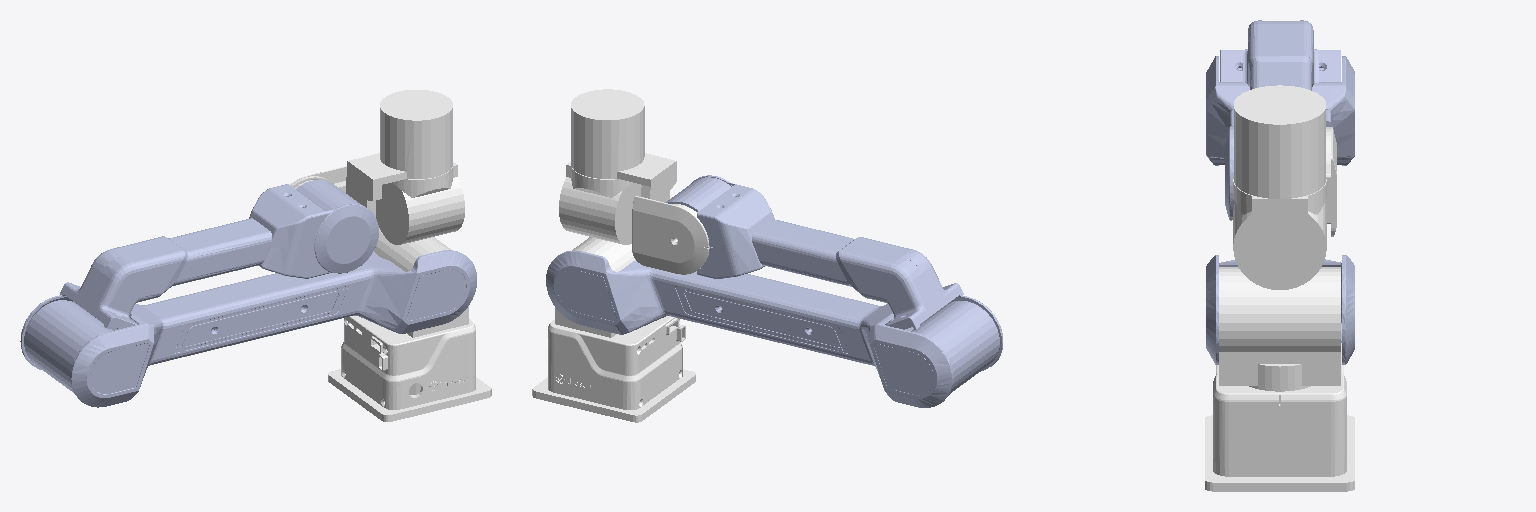
URDF robot description (S1_urdf):
<?xml version="1.0" encoding="utf-8"?>
<!-- This URDF was automatically created by SolidWorks to URDF Exporter! Originally created by Stephen Brawner (brawner@gmail.com) 
     Commit Version: 1.6.0-4-g7f85cfe  Build Version: 1.6.7995.38578
     For more information, please see http://wiki.ros.org/sw_urdf_exporter -->
<robot
  name="S1_urdf">
  <link
    name="base_link">
    <inertial>
      <origin
        xyz="-0.00380858444094159 -2.95623718748507E-06 -0.00812774108594989"
        rpy="0 0 0" />
      <mass
        value="0.20806063959613" />
      <inertia
        ixx="0.000111582714512014"
        ixy="-2.09920975933723E-08"
        ixz="-1.21102241506082E-07"
        iyy="0.000111825104100504"
        iyz="7.58291968234202E-09"
        izz="0.000141736244263584" />
    </inertial>
    <visual>
      <origin
        xyz="0 0 0"
        rpy="0 0 0" />
      <geometry>
        <mesh
          filename="package://S1_urdf/meshes/base_link.STL" />
      </geometry>
      <material
        name="">
        <color
          rgba="1 1 1 1" />
      </material>
    </visual>
    <collision>
      <origin
        xyz="0 0 0"
        rpy="0 0 0" />
      <geometry>
        <mesh
          filename="package://S1_urdf/meshes/base_link.STL" />
      </geometry>
    </collision>
  </link>
  <link
    name="1_Link">
    <inertial>
      <origin
        xyz="-7.80625564189563E-18 -5.00000000002408E-06 0.0590653989286232"
        rpy="0 0 0" />
      <mass
        value="0.240435362198768" />
      <inertia
        ixx="0.00018630832355269"
        ixy="1.64953324173944E-20"
        ixz="-3.36777610311687E-21"
        iyy="0.000128091509815163"
        iyz="1.45060421196015E-21"
        izz="0.000164031471753809" />
    </inertial>
    <visual>
      <origin
        xyz="0 0 0"
        rpy="0 0 0" />
      <geometry>
        <mesh
          filename="package://S1_urdf/meshes/1_Link.STL" />
      </geometry>
      <material
        name="">
        <color
          rgba="1 1 1 1" />
      </material>
    </visual>
    <collision>
      <origin
        xyz="0 0 0"
        rpy="0 0 0" />
      <geometry>
        <mesh
          filename="package://S1_urdf/meshes/1_Link.STL" />
      </geometry>
    </collision>
  </link>
  <joint
    name="1joint"
    type="revolute">
    <origin
      xyz="0 0 0"
      rpy="0 0 0" />
    <parent
      link="base_link" />
    <child
      link="1_Link" />
    <axis
      xyz="0 0 1" />
    <limit
      lower="-2.967"
      upper="2.967"
      effort="9"
      velocity="3" />
  </joint>
  <link
    name="2_Link">
    <inertial>
      <origin
        xyz="-0.251879222304569 0.000517956528807904 -7.29157146039383E-05"
        rpy="0 0 0" />
      <mass
        value="0.278959835711776" />
      <inertia
        ixx="0.000163800465912938"
        ixy="2.62737202022501E-07"
        ixz="1.39606807736436E-05"
        iyy="0.000968577582996889"
        iyz="7.55245046340043E-08"
        izz="0.00100988914340768" />
    </inertial>
    <visual>
      <origin
        xyz="0 0 0"
        rpy="0 0 0" />
      <geometry>
        <mesh
          filename="package://S1_urdf/meshes/2_Link.STL" />
      </geometry>
      <material
        name="">
        <color
          rgba="0.792156862745098 0.819607843137255 0.933333333333333 1" />
      </material>
    </visual>
    <collision>
      <origin
        xyz="0 0 0"
        rpy="0 0 0" />
      <geometry>
        <mesh
          filename="package://S1_urdf/meshes/2_Link.STL" />
      </geometry>
    </collision>
  </link>
  <joint
    name="2joint"
    type="revolute">
    <origin
      xyz="0 0 0.06525"
      rpy="0 0 0" />
    <parent
      link="1_Link" />
    <child
      link="2_Link" />
    <axis
      xyz="0 1 0" />
    <limit
      lower="0"
      upper="3.14"
      effort="9"
      velocity="3" />
  </joint>
  <link
    name="3_Link">
    <inertial>
      <origin
        xyz="0.19037840176035 -0.00362158780107993 0.0563752101995602"
        rpy="0 0 0" />
      <mass
        value="0.196496171403485" />
      <inertia
        ixx="7.62290489044243E-05"
        ixy="1.27450659123862E-05"
        ixz="-1.40318828274595E-05"
        iyy="0.000364814635826903"
        iyz="3.20235247907783E-07"
        izz="0.000356529119624131" />
    </inertial>
    <visual>
      <origin
        xyz="0 0 0"
        rpy="0 0 0" />
      <geometry>
        <mesh
          filename="package://S1_urdf/meshes/3_Link.STL" />
      </geometry>
      <material
        name="">
        <color
          rgba="0.796078431372549 0.823529411764706 0.937254901960784 1" />
      </material>
    </visual>
    <collision>
      <origin
        xyz="0 0 0"
        rpy="0 0 0" />
      <geometry>
        <mesh
          filename="package://S1_urdf/meshes/3_Link.STL" />
      </geometry>
    </collision>
  </link>
  <joint
    name="3joint"
    type="revolute">
    <origin
      xyz="-0.3 0.000494999999999956 0"
      rpy="0 0 0" />
    <parent
      link="2_Link" />
    <child
      link="3_Link" />
    <axis
      xyz="0 -1 0" />
    <limit
      lower="0"
      upper="3.14"
      effort="9"
      velocity="3" />
  </joint>
  <link
    name="4_Link">
    <inertial>
      <origin
        xyz="0.0683945378314372 0.00252083182130338 0.0485251695946249"
        rpy="0 0 0" />
      <mass
        value="0.160912102201024" />
      <inertia
        ixx="0.000134927190897753"
        ixy="2.36812899894328E-05"
        ixz="-7.64926182833173E-05"
        iyy="0.000219616653698238"
        iyz="1.95242373799905E-05"
        izz="0.000157365120045885" />
    </inertial>
    <visual>
      <origin
        xyz="0 0 0"
        rpy="0 0 0" />
      <geometry>
        <mesh
          filename="package://S1_urdf/meshes/4_Link.STL" />
      </geometry>
      <material
        name="">
        <color
          rgba="1 1 1 1" />
      </material>
    </visual>
    <collision>
      <origin
        xyz="0 0 0"
        rpy="0 0 0" />
      <geometry>
        <mesh
          filename="package://S1_urdf/meshes/4_Link.STL" />
      </geometry>
    </collision>
  </link>
  <joint
    name="4joint"
    type="revolute">
    <origin
      xyz="0.22 -0.000494999999999959 0.057"
      rpy="0 0 0" />
    <parent
      link="3_Link" />
    <child
      link="4_Link" />
    <axis
      xyz="0 1 0" />
    <limit
      lower="-1.57"
      upper="1.518"
      effort="3"
      velocity="3" />
  </joint>
  <link
    name="5_Link">
    <inertial>
      <origin
        xyz="0.000956923597758259 -9.47220826080786E-11 -0.0552062581443398"
        rpy="0 0 0" />
      <mass
        value="0.148471219823558" />
      <inertia
        ixx="7.22679916508393E-05"
        ixy="1.54971779141034E-11"
        ixz="9.23231896036375E-07"
        iyy="7.08257113400729E-05"
        iyz="-9.66138853764062E-13"
        izz="6.22190701090223E-05" />
    </inertial>
    <visual>
      <origin
        xyz="0 0 0"
        rpy="0 0 0" />
      <geometry>
        <mesh
          filename="package://S1_urdf/meshes/5_Link.STL" />
      </geometry>
      <material
        name="">
        <color
          rgba="1 1 1 1" />
      </material>
    </visual>
    <collision>
      <origin
        xyz="0 0 0"
        rpy="0 0 0" />
      <geometry>
        <mesh
          filename="package://S1_urdf/meshes/5_Link.STL" />
      </geometry>
    </collision>
  </link>
  <joint
    name="5joint"
    type="revolute">
    <origin
      xyz="0.0807873370477526 0 0.0591736792802548"
      rpy="0 0 0" />
    <parent
      link="4_Link" />
    <child
      link="5_Link" />
    <axis
      xyz="0 0 -1" />
    <limit
      lower="-1.57"
      upper="1.57"
      effort="3"
      velocity="3" />
  </joint>
  
<link name="dummy_link">
<inertial>
  <mass value="0.001" />
  <origin xyz="0.02 0 0" />
  <inertia ixx="0.0000001" ixy="0" ixz="0" iyy="0.0000001" iyz="0" izz="0.0000001" />
</inertial>
<visual>
  <origin xyz="0 0 0" rpy="0 1.57 0" />
  <geometry>
    <mesh filename="package://S1_urdf/meshes/flange.STL" />
  </geometry>
  <material name="">
    <color rgba="1 1 1 1" />
  </material>
</visual>
<collision>
  <origin xyz="0 0 0" rpy="0 1.57 0" />
  <geometry>
    <mesh filename="package://S1_urdf/meshes/flange.STL" />
  </geometry>
</collision>
</link>
  <joint
    name="6joint"
    type="revolute">
    <origin
      xyz="0.0312127 0 -0.059174"
      rpy="0 0 0" />
    <parent
      link="5_Link" />
    <child
      link="dummy_link" />
    <axis
      xyz="1 0 0" />
    <limit
      lower="-1.57"
      upper="1.57"
      effort="3"
      velocity="3" />
  </joint>



</robot>

--- What the picture shows (computed from the rendered views, not written in the file) ---
Views: 3 orthographic renders of the robot side by side, from view 1: azimuth 30°, elevation 25°; view 2: azimuth 150°, elevation 25°; view 3: azimuth 270°, elevation 25°.
Robot: S1_urdf — 7 links, 6 joints (6 revolute); root link base_link; default pose: all joints at 0.
Links seen in each view (by area): view 1: 2_Link, 3_Link, base_link, 4_Link, 5_Link, 1_Link; view 2: 2_Link, 3_Link, 4_Link, base_link, 5_Link, 1_Link; view 3: base_link, 1_Link, 4_Link, 5_Link, 2_Link, 3_Link.
Link boxes in pixels (box(x1,y1,x2,y2)): 2_Link: box(20, 250, 476, 407); 3_Link: box(60, 180, 378, 328); base_link: box(328, 316, 491, 421); 4_Link: box(290, 90, 452, 216); 5_Link: box(376, 162, 464, 244); 1_Link: box(374, 228, 468, 337); 2_Link: box(546, 250, 1002, 407); 3_Link: box(666, 175, 963, 329); 4_Link: box(571, 89, 709, 274); base_link: box(532, 316, 695, 422); 5_Link: box(559, 162, 641, 244); 1_Link: box(555, 237, 635, 337); base_link: box(1205, 343, 1354, 491); 1_Link: box(1219, 267, 1340, 388); 4_Link: box(1234, 85, 1336, 236); 5_Link: box(1233, 179, 1326, 289); 2_Link: box(1206, 56, 1354, 364); 3_Link: box(1220, 20, 1340, 220).
Size in the robot's own frame: 0.3727 by 0.092 by 0.24 metres.
Meshes: 7 distinct files referenced, 6 mesh visuals loaded (6 binary STL); not drawn: 1 (reference not matched to a file when rendering).
